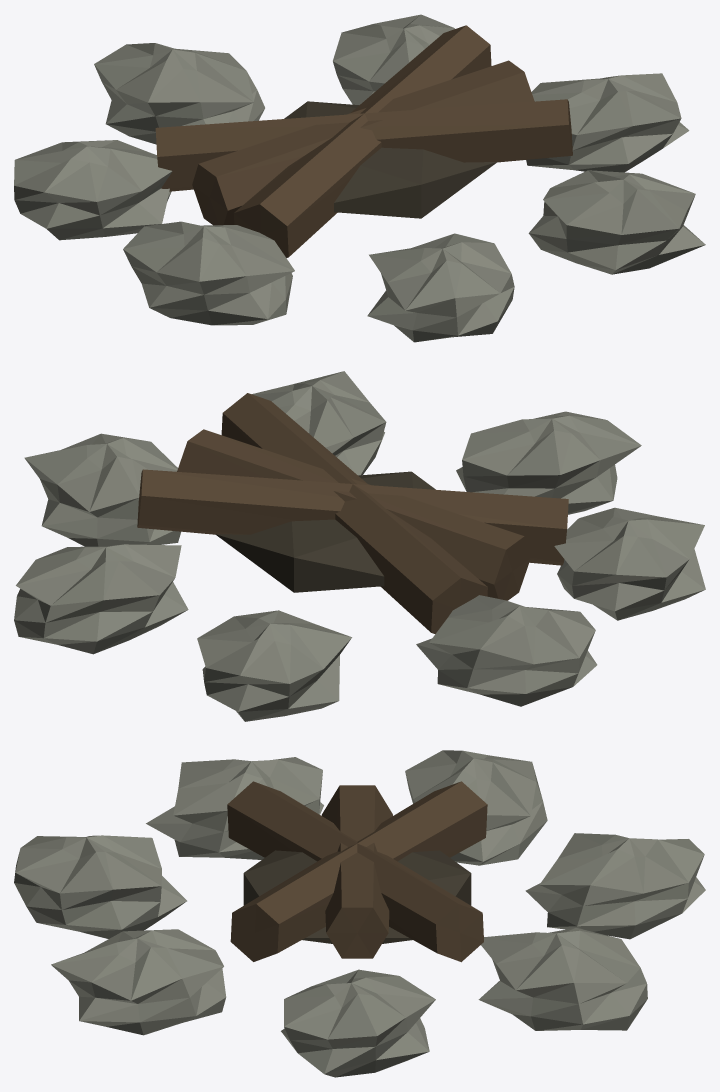
Rendered from campfire.glb.
3 renders of one model, top to bottom at view 1: azimuth 30°, elevation 25°; view 2: azimuth 150°, elevation 25°; view 3: azimuth 270°, elevation 25°, orthographic. The views are drawn at different scales.
Parts seen in each view (by area): view 1: world-scenery/campfire; view 2: world-scenery/campfire; view 3: world-scenery/campfire.
Part boxes in pixels (bbox=[...]): world-scenery/campfire: bbox=[14, 14, 705, 342]; world-scenery/campfire: bbox=[14, 371, 705, 721]; world-scenery/campfire: bbox=[14, 750, 705, 1077].
Size of the model in its own units: 1.54 by 0.2697 by 1.55.
